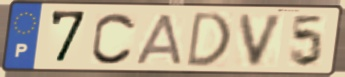5: (285, 13, 327, 69)
7: (49, 9, 88, 67)
A: (133, 12, 185, 67)
C: (89, 11, 139, 67)
D: (184, 10, 234, 69)
V: (237, 12, 288, 69)
